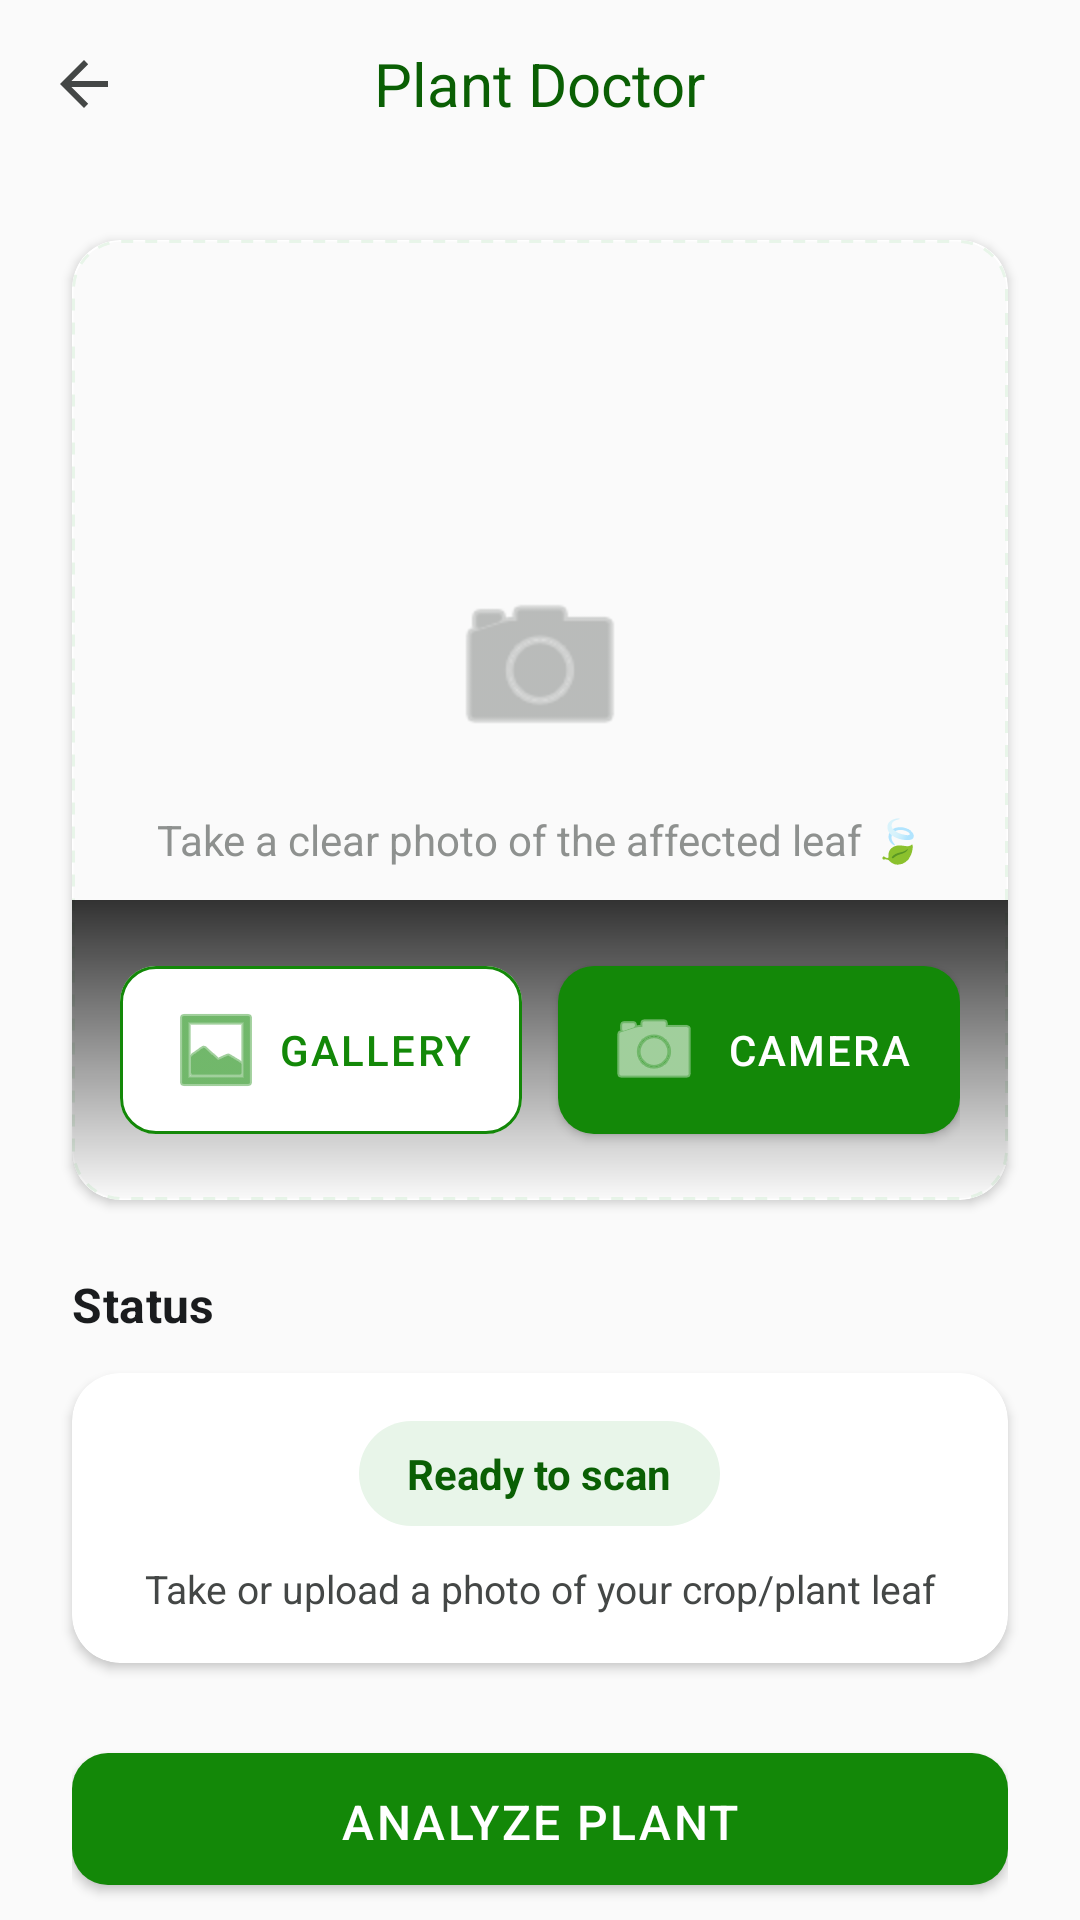

Icon bounding boxes for this 1080 × 1920 phone screenshot, format bbox=[x1, y1, x2, y2]:
camera: bbox=[467, 606, 613, 722]
